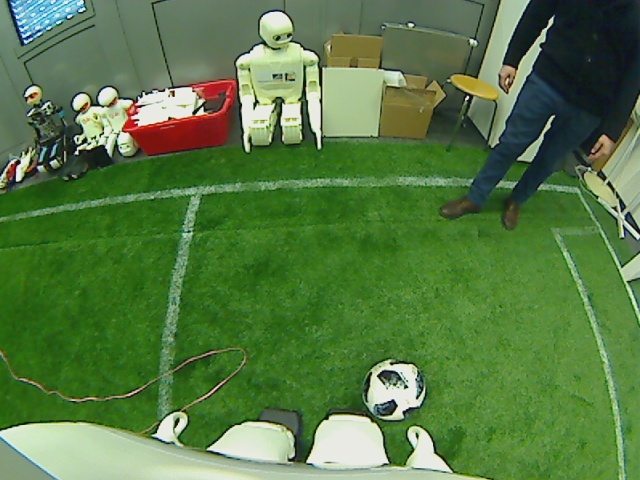ball: (360, 358, 428, 422)
